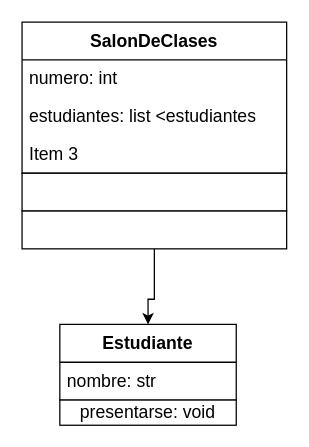
Some shapes in this 309 by 447 pixel diagram are drawn without their labels. Each missing label, with the centre of its shape:
agragar_estudiante: (void): (154,191)
mostrar_estudiante: (void): (154,229)
